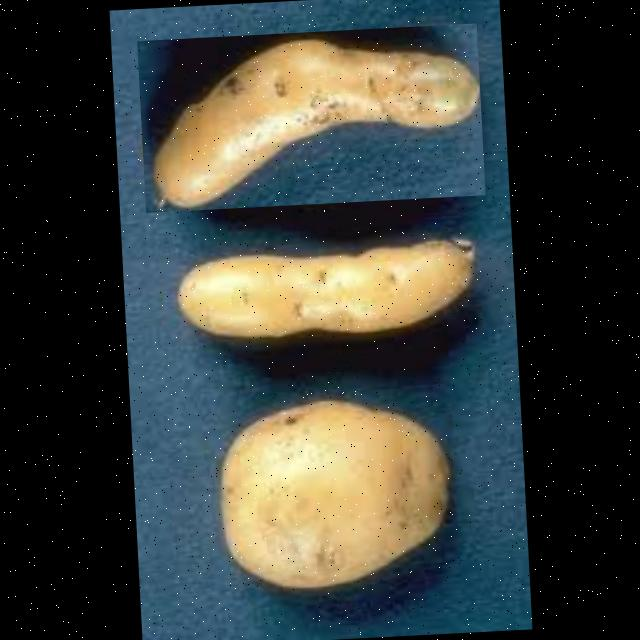Damaged potato: (136, 23, 485, 213), (174, 227, 483, 344)
Potato: (204, 388, 462, 598)
